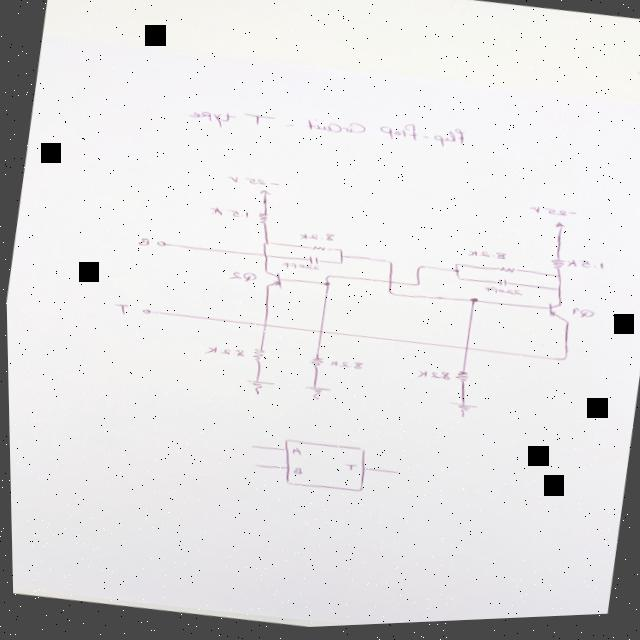capacitor: (305, 257, 321, 268), (495, 281, 509, 291)
crossover: (385, 281, 394, 287), (314, 330, 323, 336), (460, 348, 469, 354), (258, 324, 267, 329), (259, 254, 268, 259)
ground: (442, 403, 478, 424), (241, 379, 275, 400), (299, 386, 331, 405)
junction: (382, 262, 393, 269), (467, 300, 478, 307), (259, 242, 270, 248), (449, 271, 460, 277), (384, 293, 394, 298), (321, 283, 330, 288), (322, 275, 331, 280), (413, 267, 422, 272), (557, 360, 566, 365), (454, 279, 463, 284), (412, 284, 420, 289), (553, 291, 561, 296), (337, 257, 345, 261), (451, 265, 458, 269), (336, 250, 342, 254), (337, 263, 343, 267), (554, 278, 560, 282)
resistor: (305, 356, 324, 373), (546, 260, 566, 275), (249, 348, 265, 365), (493, 268, 518, 278), (305, 245, 329, 255), (452, 373, 469, 387), (255, 212, 269, 226)
source: (256, 190, 272, 198), (552, 224, 565, 233)
terminal: (139, 307, 151, 315), (154, 240, 165, 248), (245, 445, 255, 451), (250, 464, 258, 469), (392, 472, 400, 477)
text: (183, 88, 467, 170), (223, 173, 281, 192), (525, 206, 578, 225), (200, 344, 245, 362), (206, 204, 250, 222), (463, 249, 507, 266), (297, 229, 336, 248), (564, 260, 605, 277), (480, 287, 523, 302), (413, 370, 450, 386), (224, 269, 258, 286), (279, 261, 320, 275), (326, 359, 363, 374), (567, 308, 596, 325), (111, 302, 130, 316), (134, 235, 151, 248), (341, 464, 356, 474), (289, 468, 303, 477), (289, 448, 300, 457)
transistor: (543, 305, 572, 329), (259, 271, 284, 293)
